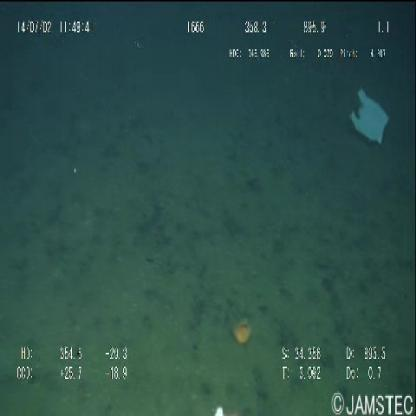Rác: (351, 91, 389, 147)
